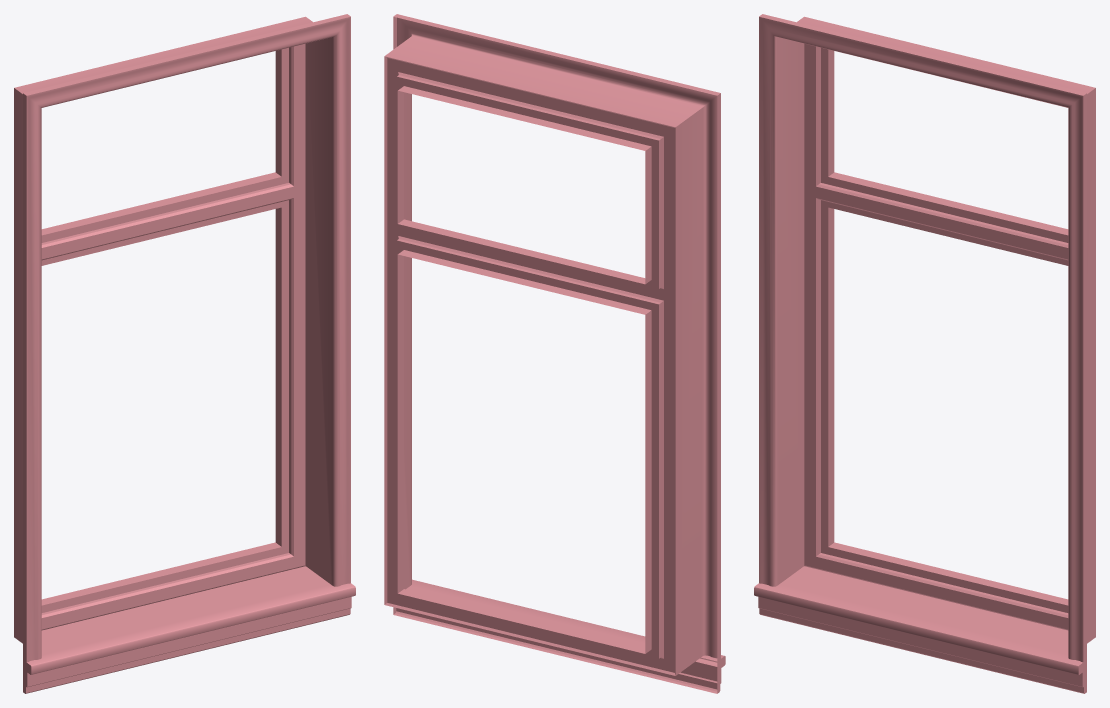
The model's file is window.gltf.
3 renders of one model, left to right at view 1: azimuth 30°, elevation 25°; view 2: azimuth 150°, elevation 25°; view 3: azimuth 330°, elevation 25°, orthographic.
Parts seen in each view (by area): view 1: Body.Courtyard_Template002_Window_reference.smd.mesh_0; view 2: Body.Courtyard_Template002_Window_reference.smd.mesh_0; view 3: Body.Courtyard_Template002_Window_reference.smd.mesh_0.
Boxes of the visible parts, x1=… form: Body.Courtyard_Template002_Window_reference.smd.mesh_0: x1=14, y1=14, x2=355, y2=693; Body.Courtyard_Template002_Window_reference.smd.mesh_0: x1=384, y1=14, x2=725, y2=693; Body.Courtyard_Template002_Window_reference.smd.mesh_0: x1=754, y1=14, x2=1095, y2=693.
Bounding box in the file's own units: 4.13 × 7.29 × 0.9286.
